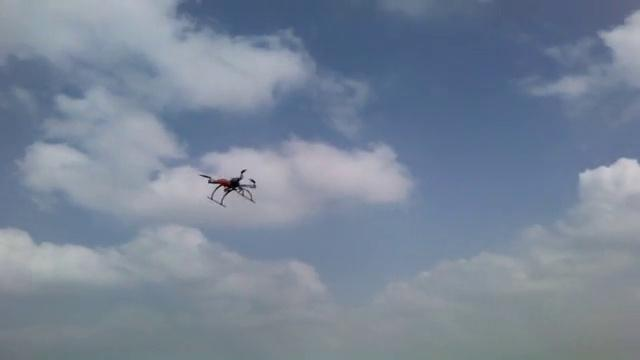drone: (198, 167, 257, 208)
